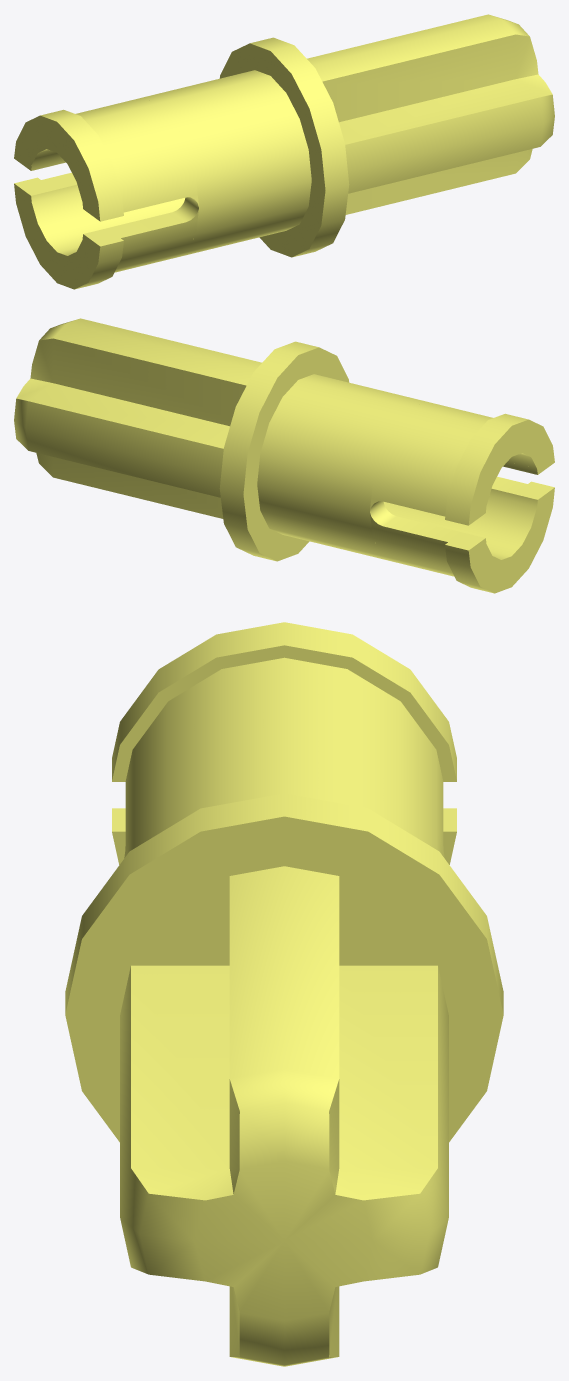
The picture shows the model from 3 angles, top to bottom: view 1: azimuth 30°, elevation 25°; view 2: azimuth 150°, elevation 25°; view 3: azimuth 270°, elevation 25°; orthographic projection. The views are drawn at different scales.
Parts seen in each view (by area): view 1: 3749.dat; view 2: 3749.dat; view 3: 3749.dat.
Boxes of the visible parts, x1,y1,x2,y2 form: 3749.dat: [14, 14, 554, 289]; 3749.dat: [14, 318, 554, 593]; 3749.dat: [65, 622, 503, 1366].
Bounding box in the file's own units: 0.0158 × 0.0064 × 0.0064.
